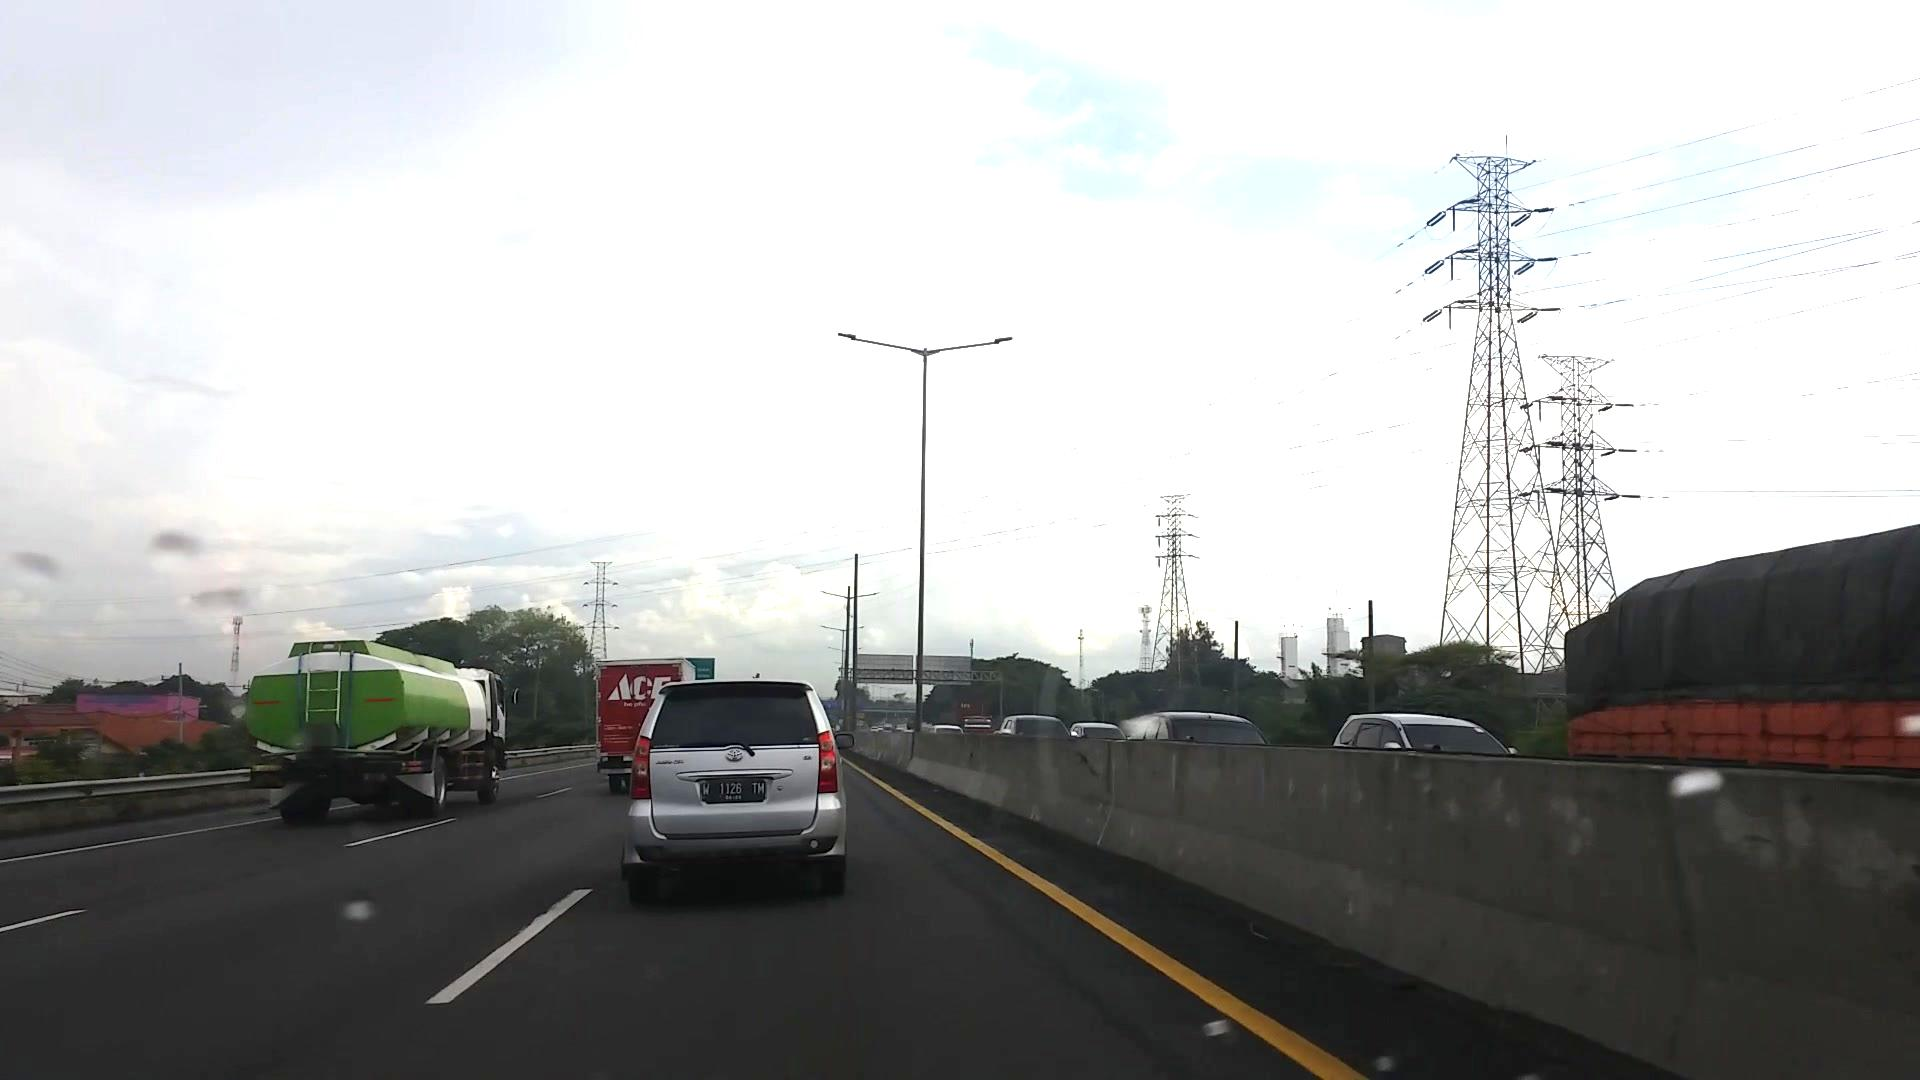plate_positive: (702, 779, 767, 803)
